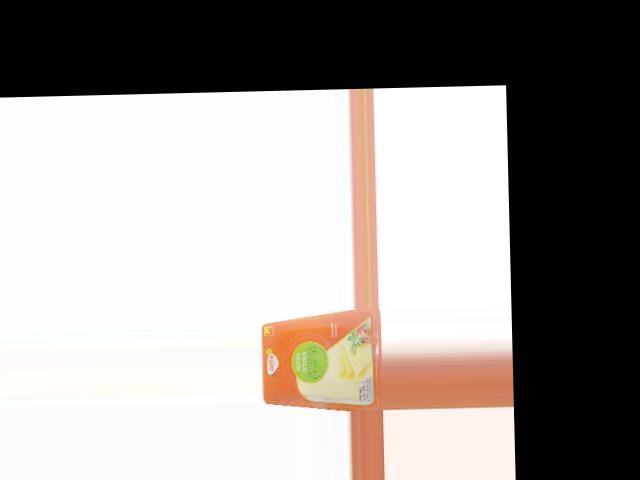cheese: (261, 308, 383, 411)
